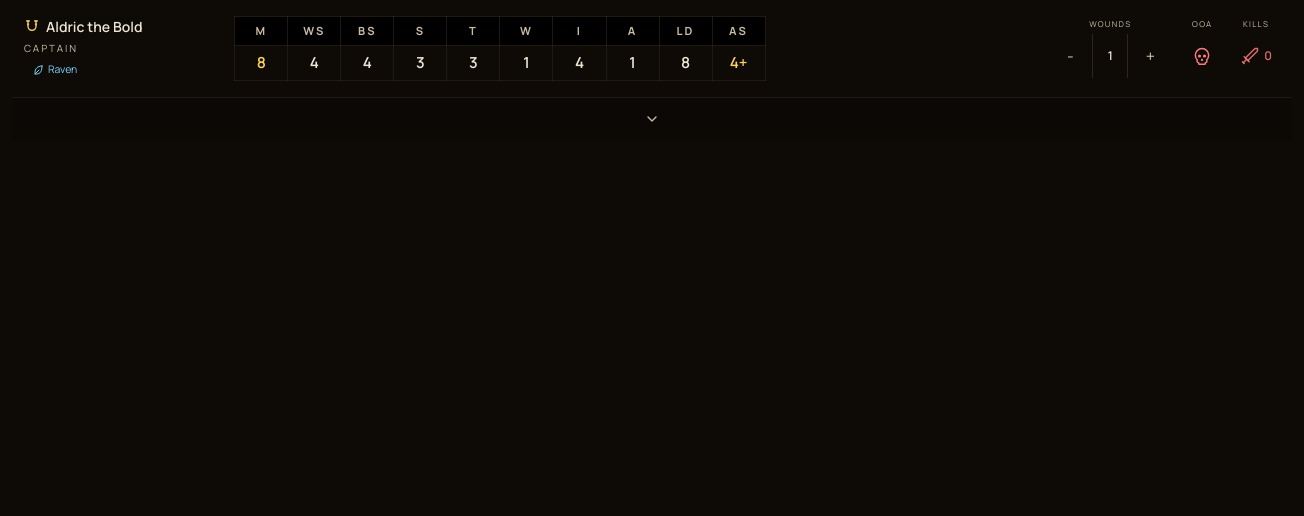
Scenario: battle: a companion's entries › lists them in the unit's tabs after its own, marked with the beast
The width and height of the screenshot is (1304, 516).
What coordinates should you click on to do the following:
click the button named "Details for Aldric the Bold"
I would click on:
 (652, 119)
Its box is [12,97,1292,141].
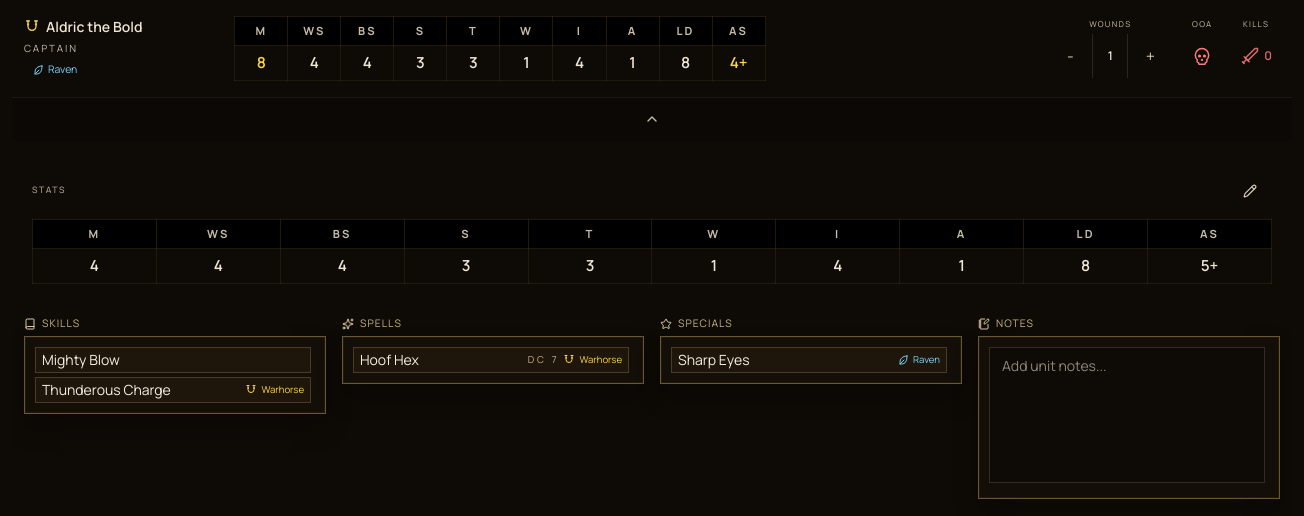
Expected: the text "Warhorse" below "Skills" is shown, [261,382,304,396]
Expected: the button "Mighty Blow" is shown, [42,350,304,370]
Expected: the button named "Hoof Hex (from Warhorse, mount)" is shown, [360,350,524,370]
